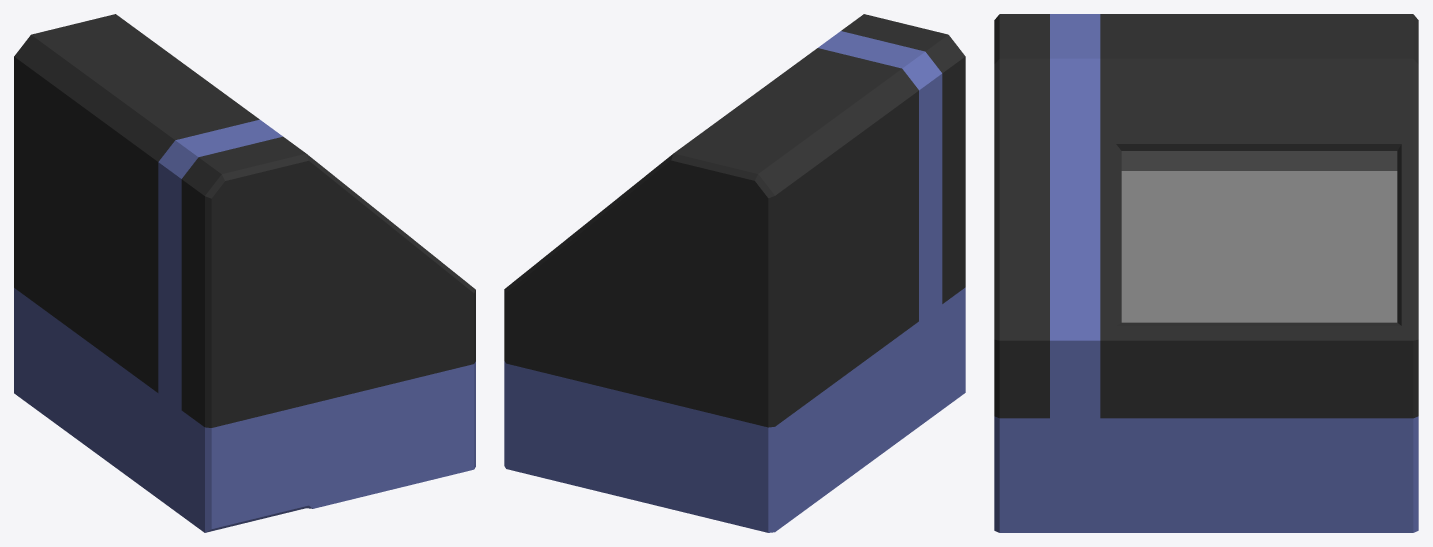
Rendered from PowerDown.fbx.
3 renders of one model, left to right at view 1: azimuth 30°, elevation 25°; view 2: azimuth 150°, elevation 25°; view 3: azimuth 270°, elevation 25°, orthographic. The views are drawn at different scales.
Visible parts, largest first — view 1: ShutDownSwitch; view 2: ShutDownSwitch; view 3: ShutDownSwitch.
Boxes of the visible parts, x1=… form: ShutDownSwitch: x1=14, y1=14, x2=475, y2=532; ShutDownSwitch: x1=504, y1=14, x2=965, y2=532; ShutDownSwitch: x1=994, y1=14, x2=1418, y2=532.
Size of the model in its own units: 160 by 200 by 200.
